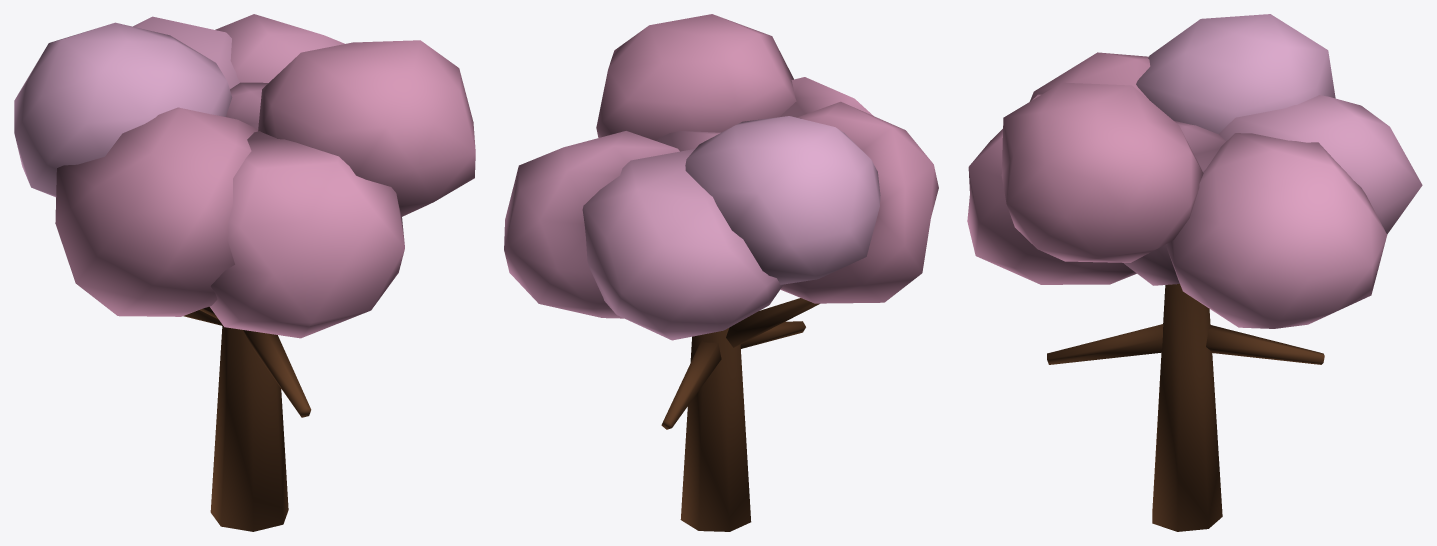
Rendered from copac_roz_b.glb.
3 renders of one model, left to right at view 1: azimuth 30°, elevation 25°; view 2: azimuth 150°, elevation 25°; view 3: azimuth 270°, elevation 25°, orthographic. The views are drawn at different scales.
Visible parts, largest first — view 1: Frunze, Corp; view 2: Frunze, Corp; view 3: Frunze, Corp.
Boxes of the visible parts, <box> form: Frunze: <box>14,14,475,338</box>; Corp: <box>183,306,311,531</box>; Frunze: <box>504,14,938,340</box>; Corp: <box>661,298,819,531</box>; Frunze: <box>967,14,1422,328</box>; Corp: <box>1047,284,1324,531</box>.
Size of the model in its own units: 1.93 by 2.39 by 2.22.
